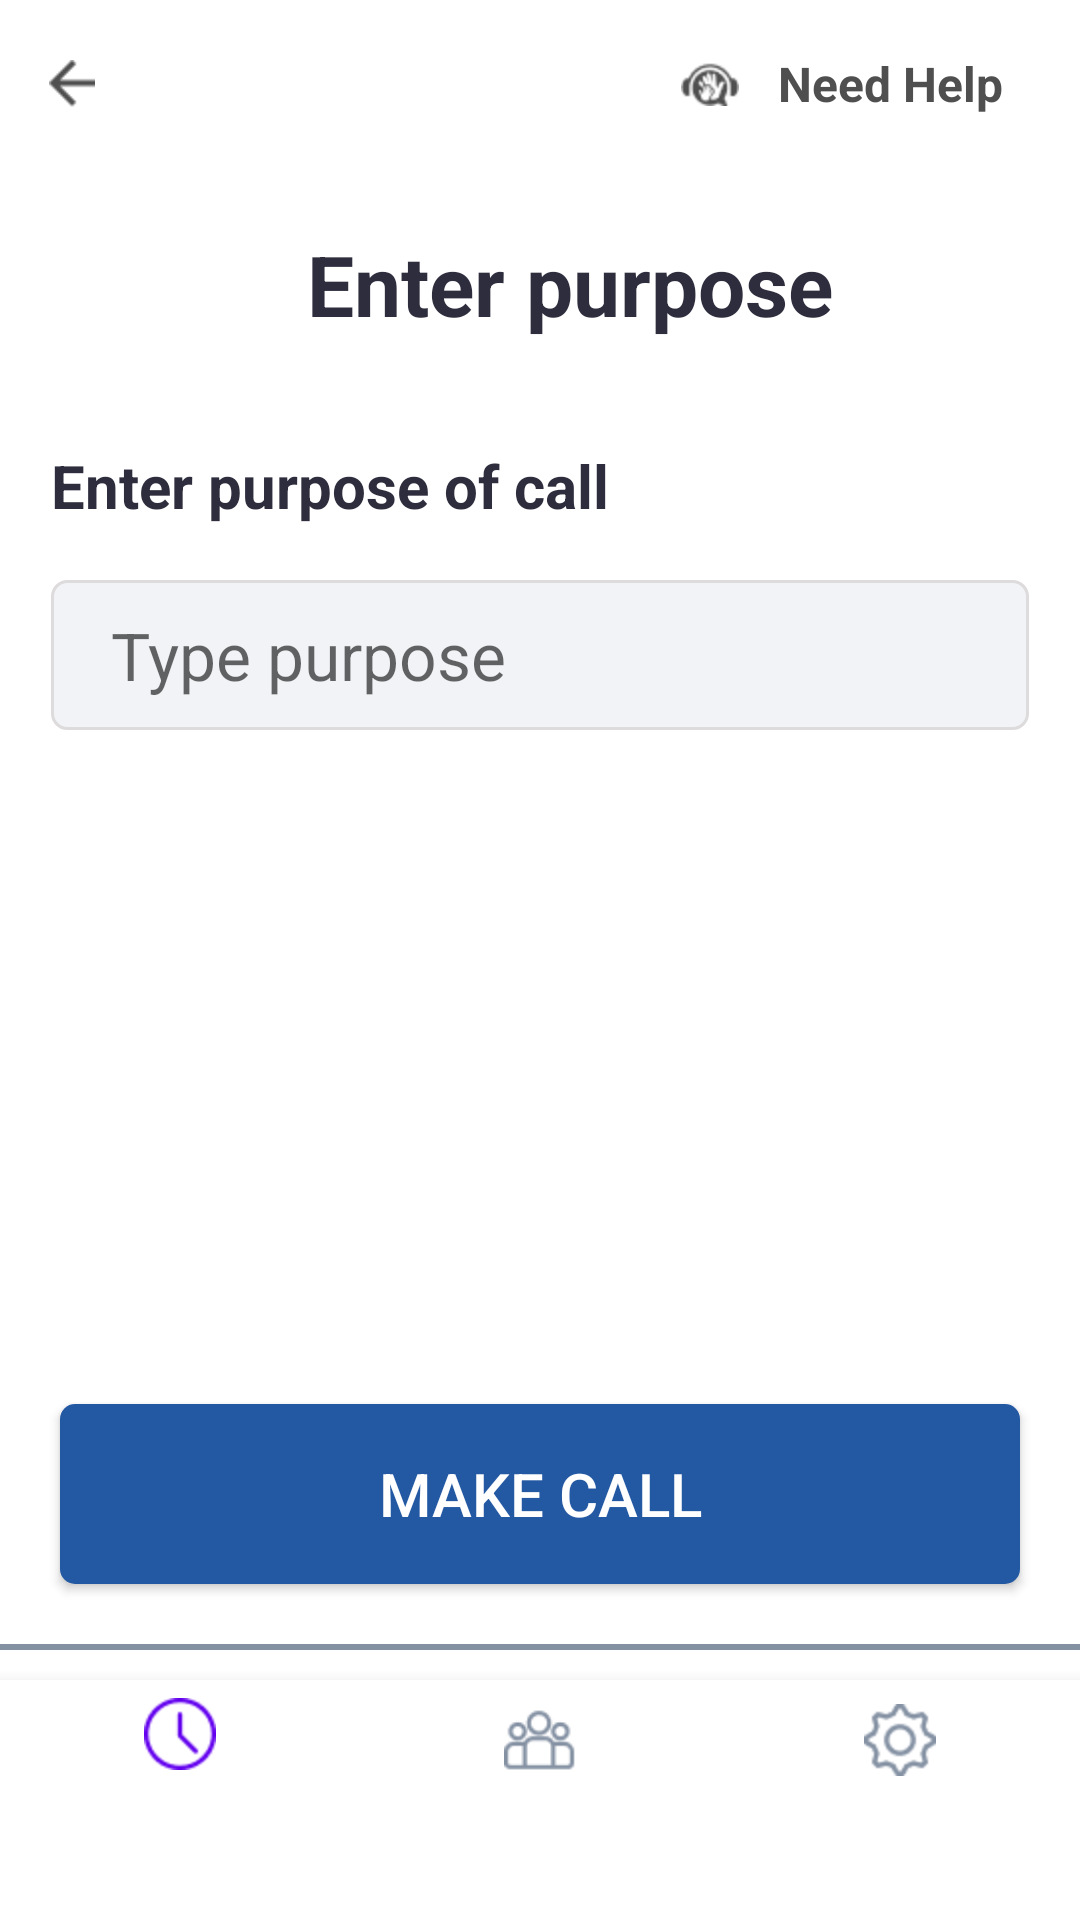

Named icons in this screenshot (1080 × 1920) and their centers, point (x, y):
back: point (72, 83)
